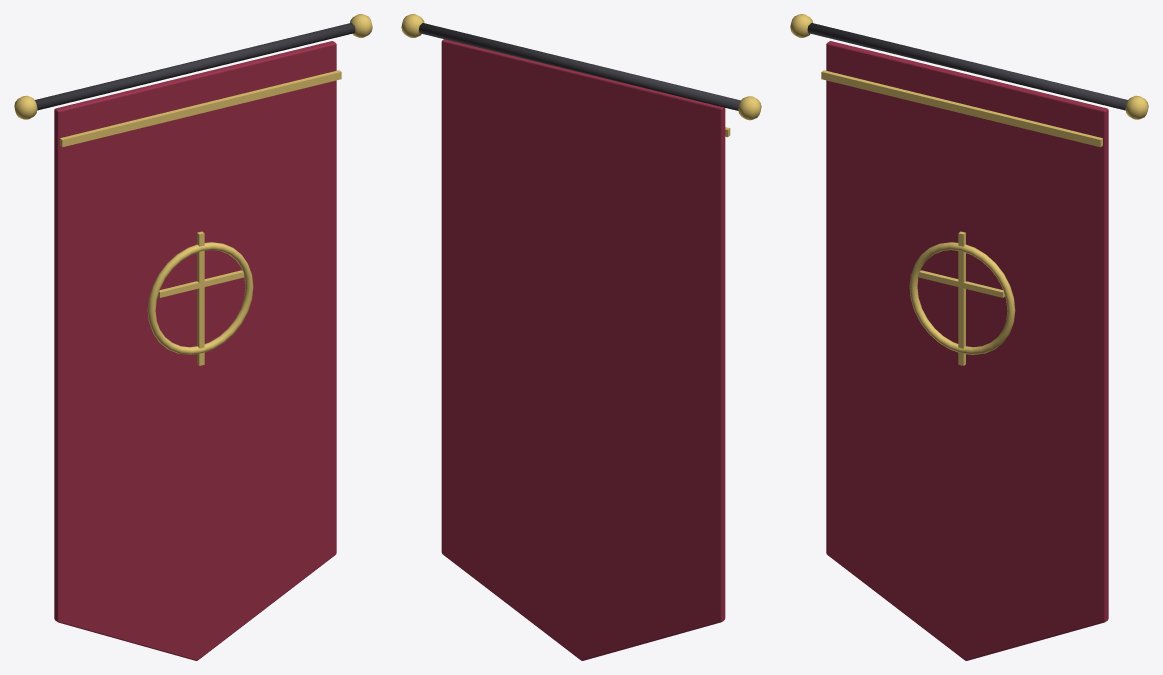
File: banner.glb
3 views of the same model, side by side, from view 1: azimuth 30°, elevation 25°; view 2: azimuth 150°, elevation 25°; view 3: azimuth 330°, elevation 25° (orthographic).
Parts seen in each view (by area): view 1: GD_banner; view 2: GD_banner; view 3: GD_banner.
Part boxes in pixels (box(x1,y1,x2,y2)): GD_banner: box(14, 14, 372, 660); GD_banner: box(401, 14, 761, 660); GD_banner: box(790, 14, 1148, 660).
Size of the model in its own units: 1.02 by 1.65 by 0.0745.
